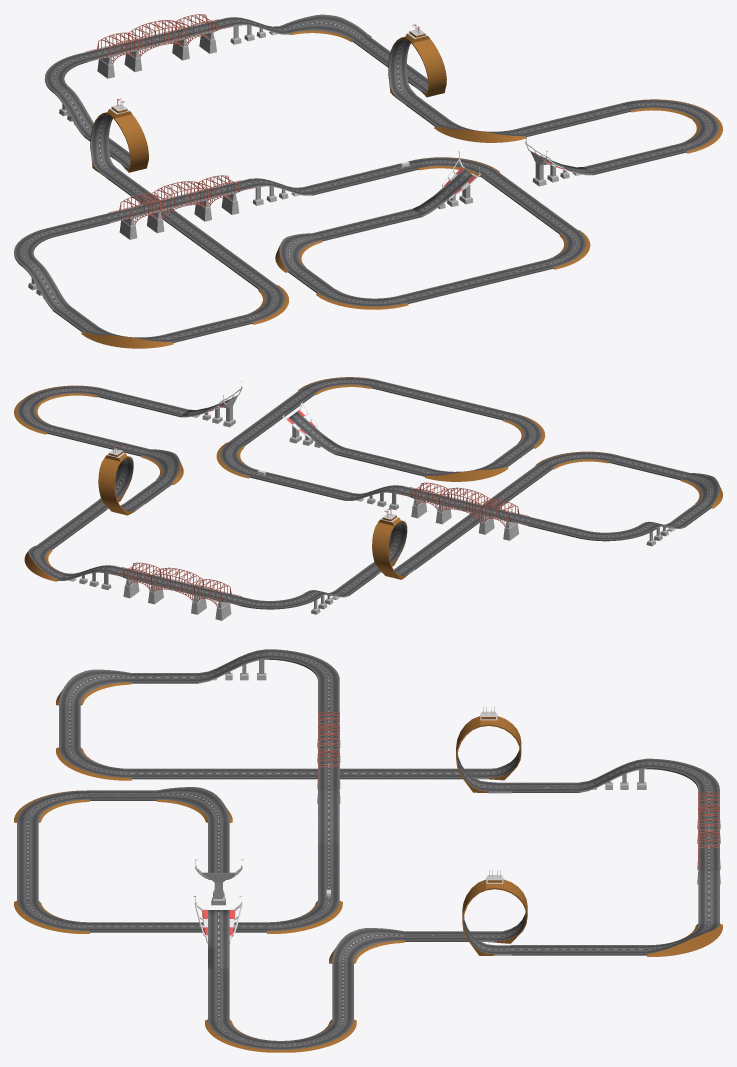
The model's file is track1.dae.
3 views of the same model, one above another, from view 1: azimuth 30°, elevation 25°; view 2: azimuth 150°, elevation 25°; view 3: azimuth 270°, elevation 25° (orthographic). The views are drawn at different scales.
Parts seen in each view (by area): view 1: static-mesh-loop, static-mesh-loop_001, static-mesh-bridg_000, static-mesh-bridg_002, static-mesh-bridg_003, static-mesh-bridge1, static-mesh-road_021, static-mesh-ramp1_001, static-mesh-road_031, static-mesh-road_034, static-mesh-road_005, static-mesh-road_010 (+33 smaller); view 2: static-mesh-loop_001, static-mesh-loop, static-mesh-bridg_000, static-mesh-bridg_002, static-mesh-bridg_003, static-mesh-bridge1, static-mesh-ramp1_001, static-mesh-road_005, static-mesh-road_010, static-mesh-road_031, static-mesh-road_002, static-mesh-road_021 (+37 smaller); view 3: static-mesh-loop_001, static-mesh-loop, static-mesh-ramp1, static-mesh-road_031, static-mesh-road_010, static-mesh-road_005, static-mesh-road_025, static-mesh-road_023, static-mesh-road_002, static-mesh-road_021, static-mesh-road_013, static-mesh-road_037 (+30 smaller).
Part boxes in pixels (box(x1,y1,x2,y2)): static-mesh-loop: box(388, 24, 446, 104); static-mesh-loop_001: box(90, 98, 148, 177); static-mesh-bridg_000: box(100, 183, 184, 239); static-mesh-bridg_002: box(78, 22, 161, 78); static-mesh-bridg_003: box(152, 14, 236, 60); static-mesh-bridge1: box(174, 175, 258, 221); static-mesh-road_021: box(280, 14, 371, 41); static-mesh-ramp1_001: box(413, 151, 480, 216); static-mesh-road_031: box(275, 233, 322, 272); static-mesh-road_034: box(316, 289, 408, 309); static-mesh-road_005: box(434, 122, 526, 142); static-mesh-road_010: box(81, 328, 173, 348); static-mesh-loop_001: box(361, 508, 414, 579); static-mesh-loop: box(91, 444, 144, 515); static-mesh-bridg_000: box(460, 489, 536, 540); static-mesh-bridg_002: box(173, 569, 248, 620); static-mesh-bridg_003: box(105, 562, 181, 604); static-mesh-bridge1: box(393, 482, 469, 524); static-mesh-ramp1_001: box(282, 396, 343, 454); static-mesh-road_005: box(141, 449, 183, 484); static-mesh-road_010: box(680, 473, 722, 508); static-mesh-road_031: box(425, 463, 508, 481); static-mesh-road_002: box(216, 442, 257, 478); static-mesh-road_021: box(24, 546, 65, 581); static-mesh-loop_001: box(456, 706, 521, 793); static-mesh-loop: box(462, 868, 527, 955); static-mesh-ramp1: box(193, 896, 242, 968); static-mesh-road_031: box(156, 787, 232, 822); static-mesh-road_010: box(56, 669, 131, 705); static-mesh-road_005: box(329, 928, 404, 963); static-mesh-road_025: box(205, 1019, 280, 1052); static-mesh-road_023: box(281, 1019, 356, 1052); static-mesh-road_002: box(267, 900, 342, 933); static-mesh-road_021: box(647, 923, 722, 956); static-mesh-road_013: box(56, 747, 131, 780); static-mesh-road_037: box(14, 900, 89, 933).
Size of what is drawn, in the model's own units: 579 by 457 by 53.38.
19 materials, 6 textured.
